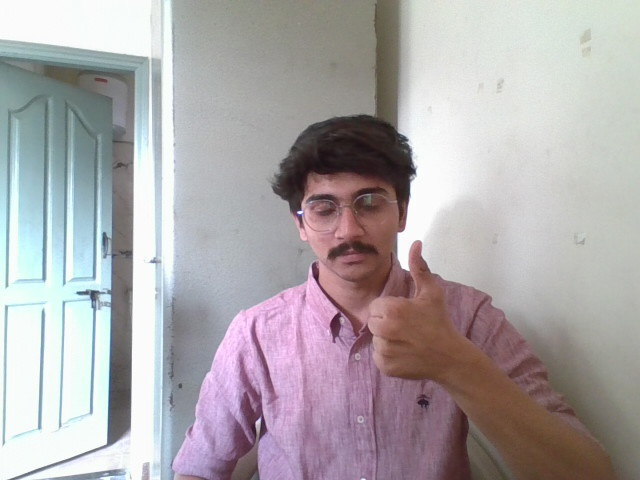done: (363, 240, 484, 394)
